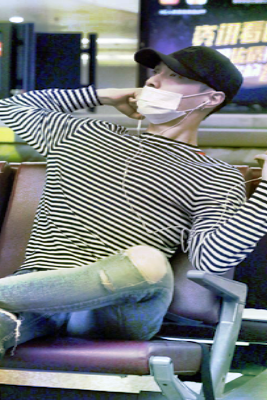mask_weared_incorrect: (136, 67, 203, 121)
